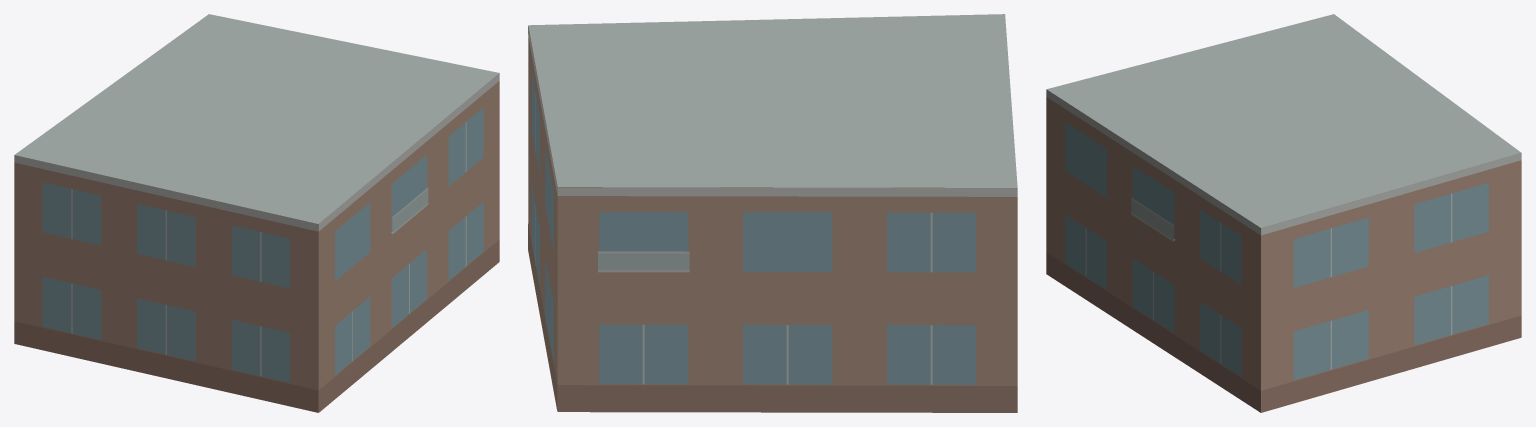
Rendered from survey-upis-32892647.glb.
3 views of the same model, side by side, from view 1: azimuth 30°, elevation 25°; view 2: azimuth 150°, elevation 25°; view 3: azimuth 270°, elevation 25° (orthographic). The views are drawn at different scales.
Parts seen in each view (by area): view 1: survey-upis-32892647.tmp; view 2: survey-upis-32892647.tmp; view 3: survey-upis-32892647.tmp.
Boxes of the visible parts, x1,y1,x2,y2 form: survey-upis-32892647.tmp: (14,14,499,412); survey-upis-32892647.tmp: (528,14,1017,412); survey-upis-32892647.tmp: (1046,14,1521,412).
Bounding box in the file's own units: 15.16 × 6.1 × 14.22.
